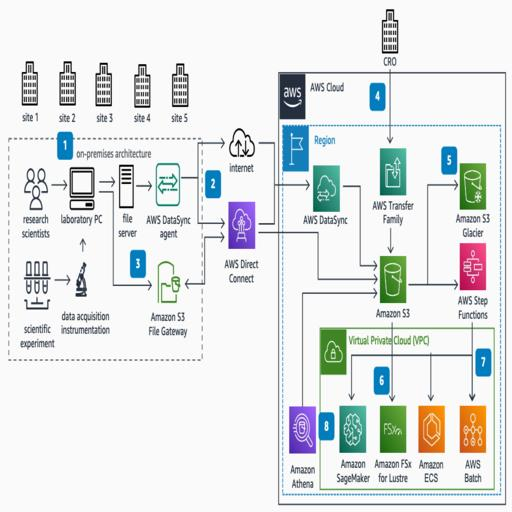actor: (66, 159, 98, 210), (66, 256, 98, 307), (15, 180, 46, 230), (15, 272, 46, 322), (108, 159, 138, 210), (18, 56, 44, 108), (54, 56, 80, 108), (90, 56, 116, 108), (125, 56, 151, 108), (166, 56, 192, 108), (376, 10, 402, 62)
compute: (286, 415, 318, 466), (414, 415, 446, 466), (338, 415, 369, 466), (456, 251, 486, 302), (456, 415, 486, 466)
data_flow: (292, 308, 384, 410), (272, 236, 364, 276), (410, 179, 450, 251), (125, 184, 151, 286), (184, 230, 226, 282), (261, 184, 312, 226), (261, 133, 312, 174), (338, 200, 379, 251), (184, 184, 226, 226), (184, 133, 226, 174), (353, 348, 476, 358), (384, 62, 394, 134), (77, 205, 87, 256), (384, 205, 394, 256), (466, 302, 476, 353), (343, 354, 353, 404), (384, 354, 394, 404), (425, 354, 435, 404), (466, 354, 476, 404), (410, 272, 450, 282), (46, 174, 66, 184), (46, 266, 66, 276), (92, 174, 112, 184), (138, 174, 158, 184)
database_storage: (158, 261, 190, 312), (374, 256, 404, 307), (374, 415, 404, 466), (456, 154, 486, 204)
network_security: (220, 205, 261, 256), (220, 123, 261, 164), (158, 159, 190, 210), (318, 159, 348, 210), (374, 154, 404, 204)
trust_boundary: (276, 69, 502, 504), (282, 118, 496, 496), (5, 134, 200, 358), (318, 320, 492, 479)
